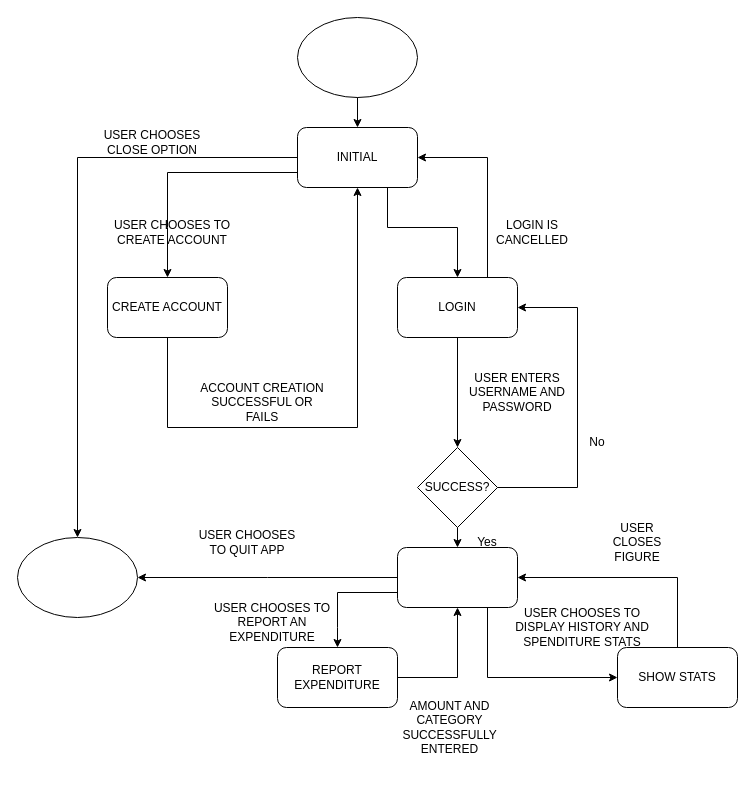
The diagram is 755 pixels wide and 785 high, and some of its shapes have lost their labels. Each missing label, with the box of its shape:
CLOSE APP: (16, 536, 138, 618)
LOGGED IN: (396, 546, 518, 608)
START: (296, 16, 418, 98)
